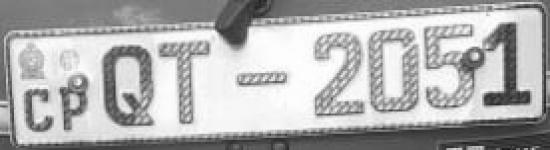-: (236, 66, 289, 90)
0: (366, 25, 424, 118)
1: (480, 17, 538, 112)
2: (308, 25, 366, 119)
5: (424, 21, 480, 114)
C: (18, 84, 56, 136)
P: (60, 82, 90, 134)
Q: (100, 41, 158, 136)
T: (157, 38, 215, 129)
